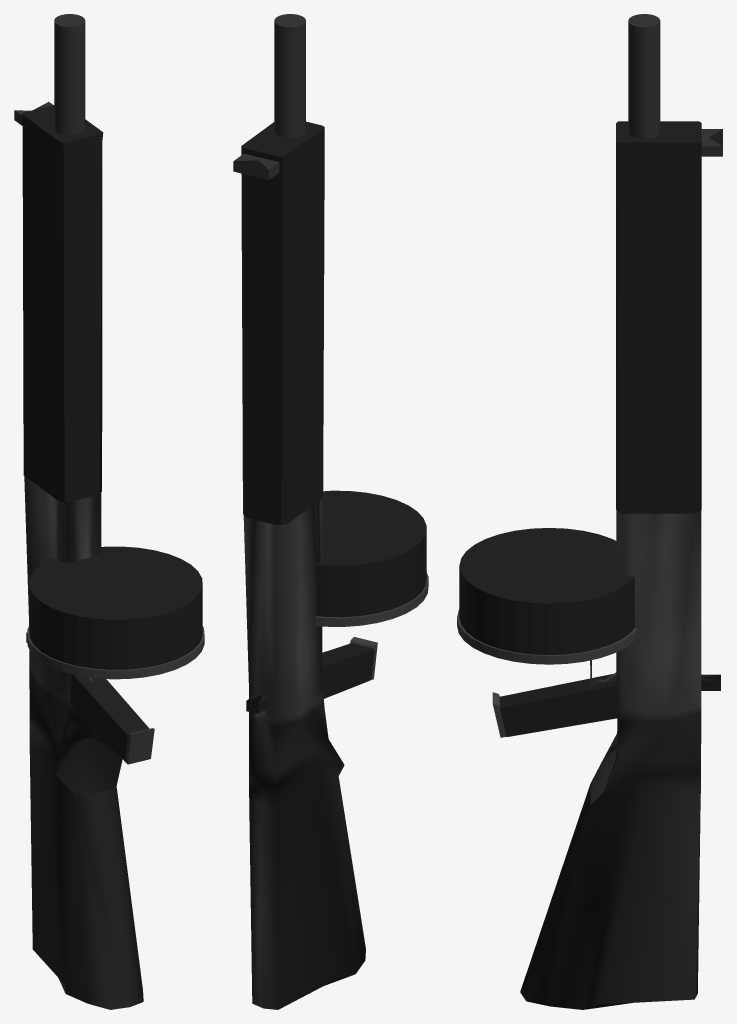
3 views of the same model, side by side, from view 1: azimuth 30°, elevation 25°; view 2: azimuth 150°, elevation 25°; view 3: azimuth 270°, elevation 25° (orthographic). The views are drawn at different scales.
Parts seen in each view (by area): view 1: node_eb3a674a_6b93_4f5c_acdd_cc4217393103_mesh0; view 2: node_eb3a674a_6b93_4f5c_acdd_cc4217393103_mesh0; view 3: node_eb3a674a_6b93_4f5c_acdd_cc4217393103_mesh0.
Part boxes in pixels (left/top/right/bottom): node_eb3a674a_6b93_4f5c_acdd_cc4217393103_mesh0: left=14, top=14, right=204, bottom=1009; node_eb3a674a_6b93_4f5c_acdd_cc4217393103_mesh0: left=233, top=14, right=428, bottom=1009; node_eb3a674a_6b93_4f5c_acdd_cc4217393103_mesh0: left=457, top=14, right=722, bottom=1009.
Size of the model in its own units: 0.1064 by 0.6248 by 0.1548.
